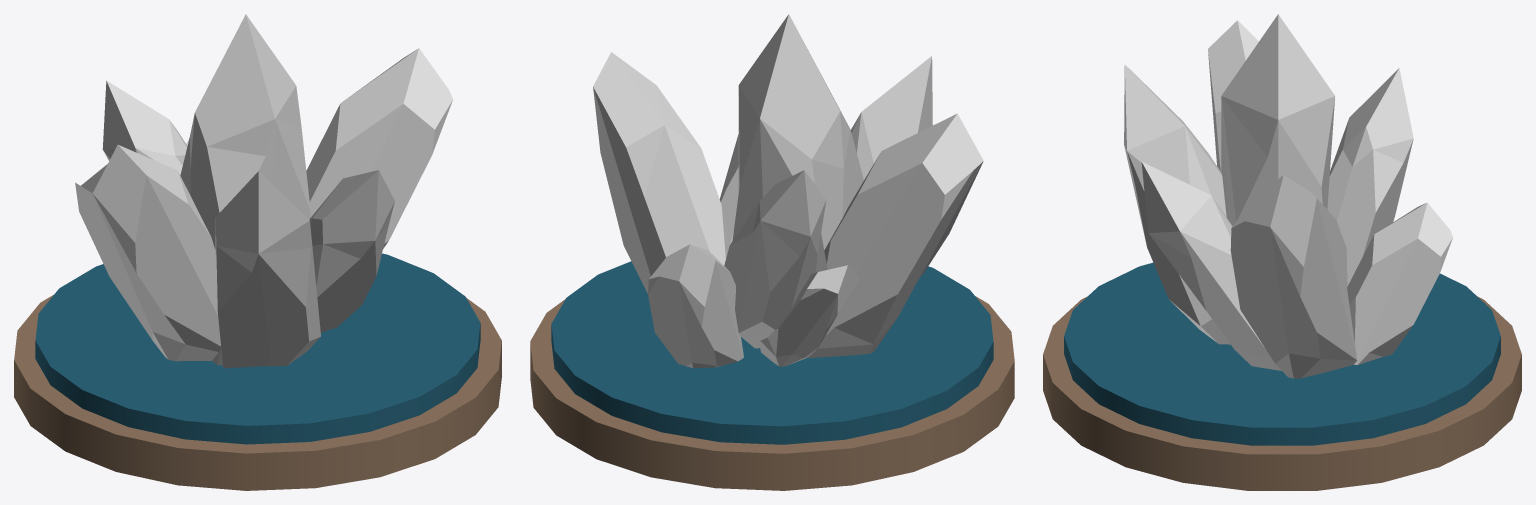
The model's file is Crystal time fragment (2).fbx.
3 renders of one model, left to right at view 1: azimuth 30°, elevation 25°; view 2: azimuth 150°, elevation 25°; view 3: azimuth 270°, elevation 25°, orthographic. The views are drawn at different scales.
Visible parts, largest first — view 1: Cylinder; view 2: Cylinder; view 3: Cylinder.
Part boxes in pixels (x1,y1,x2,y2): Cylinder: [14, 14, 501, 490]; Cylinder: [530, 14, 1014, 490]; Cylinder: [1043, 14, 1521, 490].
Size of the model in its own units: 56.38 by 48.71 by 56.96.
